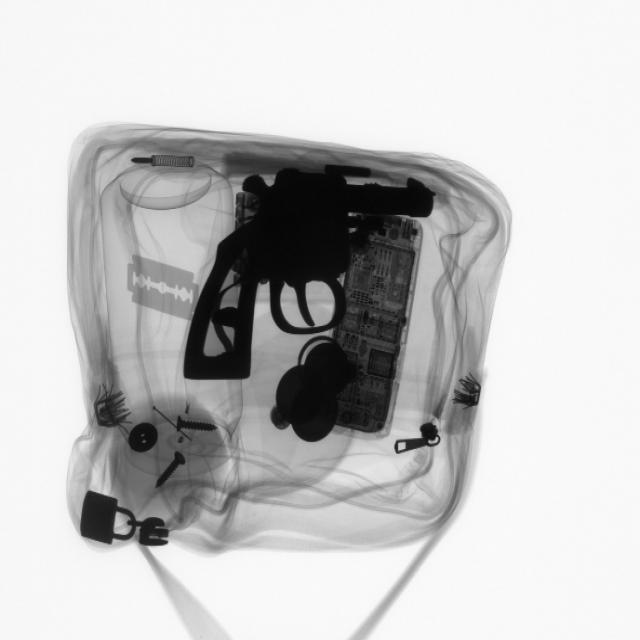BLADE: (125, 255, 205, 327)
GUN: (188, 167, 439, 388)
SCREW: (165, 410, 228, 446), (153, 444, 193, 499)
